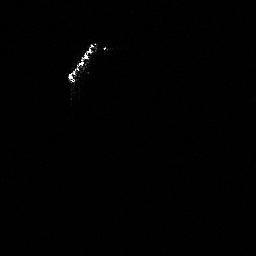ship: (66, 41, 108, 89)
